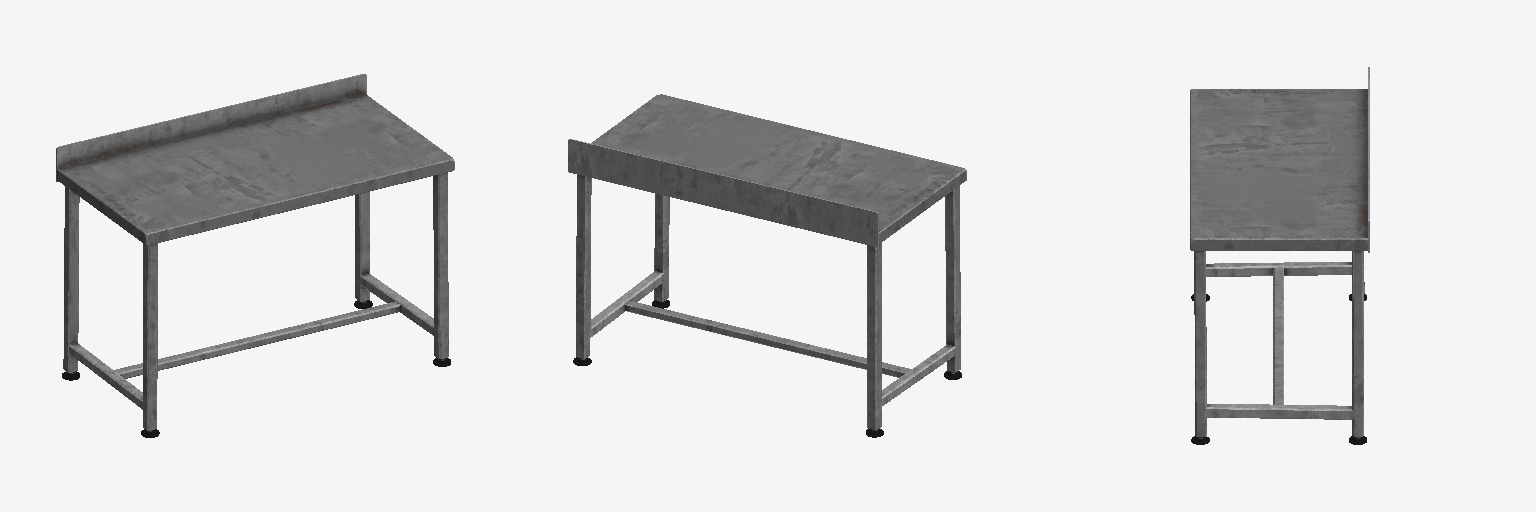
3 views of the same model, side by side, from view 1: azimuth 30°, elevation 25°; view 2: azimuth 150°, elevation 25°; view 3: azimuth 270°, elevation 25° (orthographic).
Visible parts, largest first — view 1: object_0; view 2: object_0; view 3: object_0.
Part boxes in pixels (bbox=[...]): object_0: bbox=[56, 74, 454, 437]; object_0: bbox=[568, 94, 966, 437]; object_0: bbox=[1190, 67, 1369, 444].
Size of the model in its own units: 2 by 1.4 by 1.
Materials: 1 (1 with a texture image).